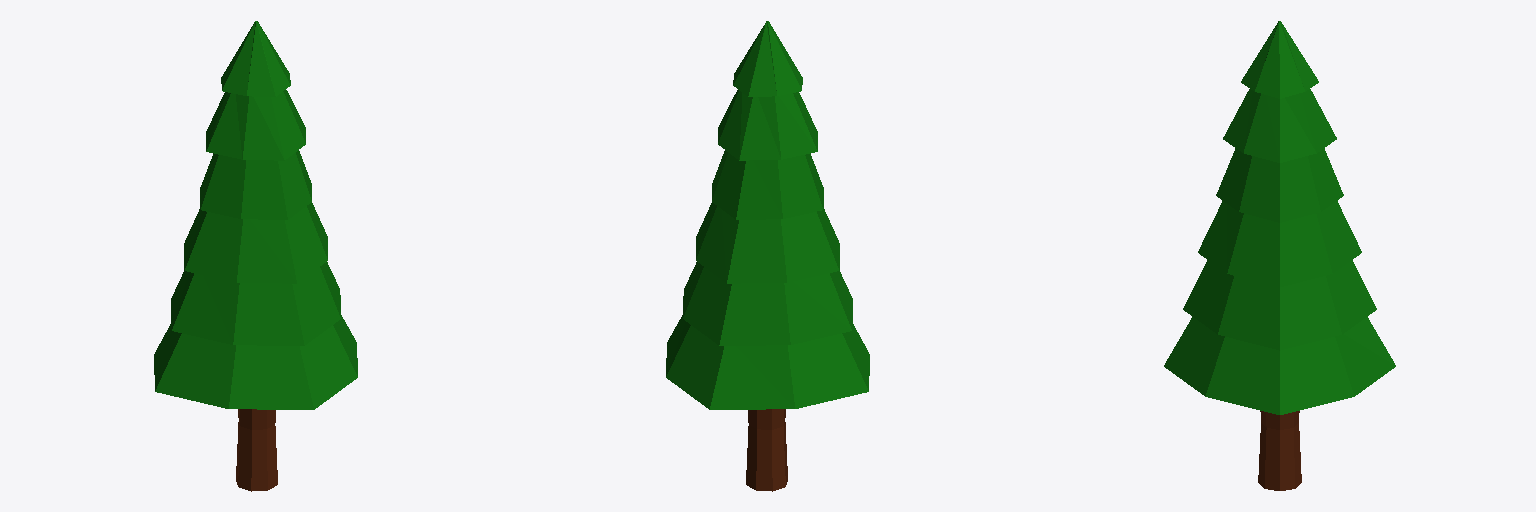
robot.urdf — oak:
<?xml version="1.0" ?>
<robot name="oak">

  <link name="baseLink">
    <inertial>
      <mass value="0.0"/> <inertia ixx="0" ixy="0" ixz="0" iyy="0" iyz="0" izz="0"/>
    </inertial>
    <visual>
      <origin rpy="0 0 0" xyz="0 0 0"/>
      <geometry>
        <mesh filename="trunk.obj" scale="1 1 1"/>
      </geometry>
      <material name="brown">
        <color rgba="0.4 0.2 0.1 1.0"/>
      </material>
    </visual>
    <collision>
      <origin rpy="0 0 0" xyz="0 0 0"/>
      <geometry>
        <mesh filename="trunk.obj" scale="1 1 1"/>
      </geometry>
    </collision>
  </link>

  <link name="leafLink">
    <inertial>
      <mass value="0.0"/>
      <inertia ixx="0" ixy="0" ixz="0" iyy="0" iyz="0" izz="0"/>
    </inertial>
    <visual>
      <origin rpy="0 0 0" xyz="0 0 0"/>
      <geometry>
        <mesh filename="leaves.obj" scale="1 1 1"/>
      </geometry>
      <material name="green">
        <color rgba="0.1 0.5 0.1 1.0"/>
      </material>
    </visual>
    </link>

  <joint name="trunk_to_leaves" type="fixed">
    <parent link="baseLink"/>
    <child link="leafLink"/>
    <origin xyz="0 0 0"/>
  </joint>
</robot>

--- Render facts (derived) ---
Views: 3 orthographic renders of the robot side by side, from view 1: azimuth 30°, elevation 25°; view 2: azimuth 150°, elevation 25°; view 3: azimuth 270°, elevation 25°.
Model oak with 2 links and 1 joints (1 fixed), rooted at baseLink, posed every joint at zero.
Visible links, largest first — view 1: leafLink, baseLink; view 2: leafLink, baseLink; view 3: leafLink, baseLink.
Link boxes in pixels (box(x1,y1,x2,y2)): leafLink: box(154, 21, 357, 409); baseLink: box(236, 409, 277, 491); leafLink: box(666, 21, 869, 409); baseLink: box(746, 409, 787, 491); leafLink: box(1164, 21, 1395, 414); baseLink: box(1258, 411, 1301, 490).
Size in the robot's own frame: 7.66 by 7.66 by 16.73 metres.
Meshes: 2 distinct files referenced, 2 mesh visuals loaded (2 OBJ).
